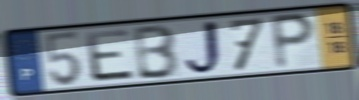5: (43, 29, 83, 89)
7: (228, 16, 266, 73)
B: (132, 22, 182, 81)
E: (83, 26, 138, 84)
J: (182, 18, 227, 77)
P: (269, 11, 318, 72)
